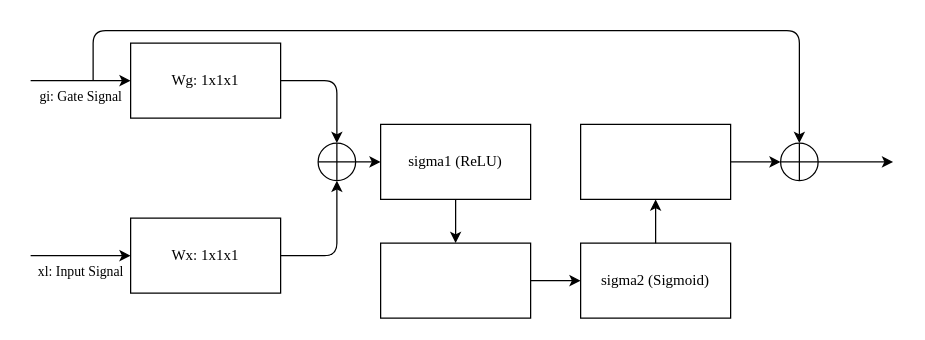
This 925x340 diagram has some shape labels left out. Each missing label, with the box of its shape:
phi (1x1x1): (379, 242, 531, 318)
Up-sampling layer: (579, 123, 731, 199)
